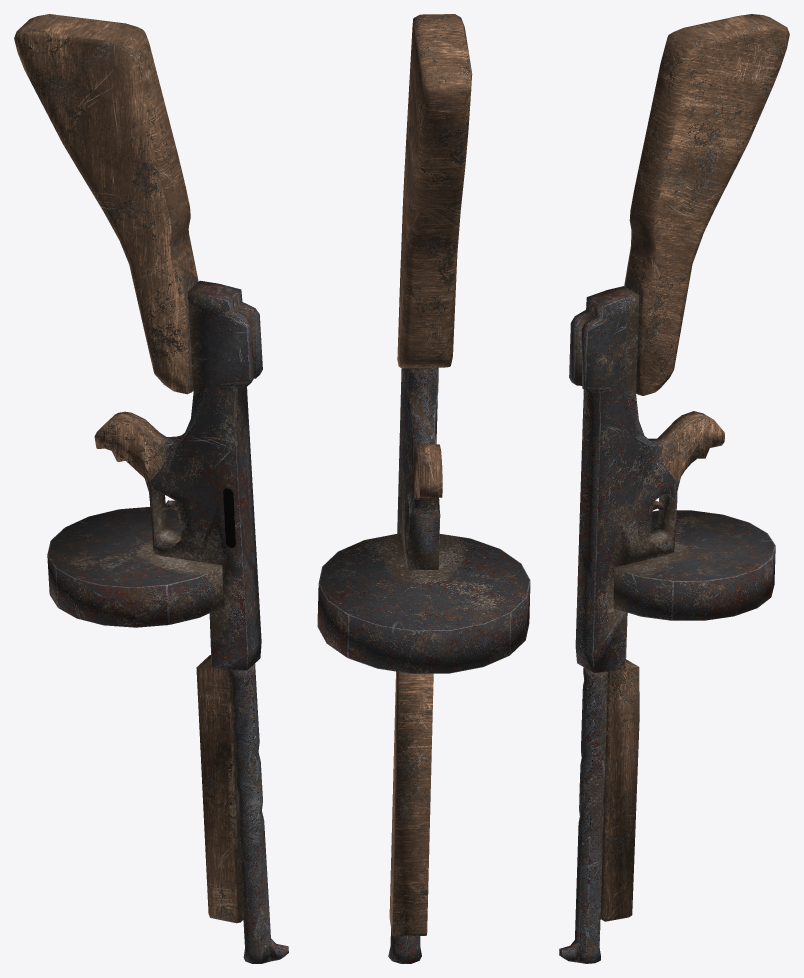
The model's file is Anim_disparar_ametralladora_objetos.0038.obj.
The picture shows the model from 3 angles, left to right: view 1: azimuth 30°, elevation 25°; view 2: azimuth 150°, elevation 25°; view 3: azimuth 270°, elevation 25°; orthographic projection. The views are drawn at different scales.
Parts seen in each view (by area): view 1: Ametralladora1; view 2: Ametralladora1; view 3: Ametralladora1.
Boxes of the visible parts, box(x1,y1,x2,y2) form: Ametralladora1: box(14, 14, 288, 963); Ametralladora1: box(317, 14, 530, 963); Ametralladora1: box(559, 14, 789, 963).
Bounding box in the file's own units: 1.17 × 5.98 × 1.41.
